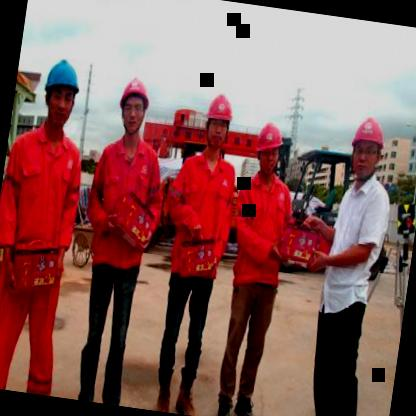helmet: (34, 44, 90, 134), (342, 105, 393, 184), (198, 81, 238, 158), (248, 112, 290, 184), (112, 70, 154, 141)
